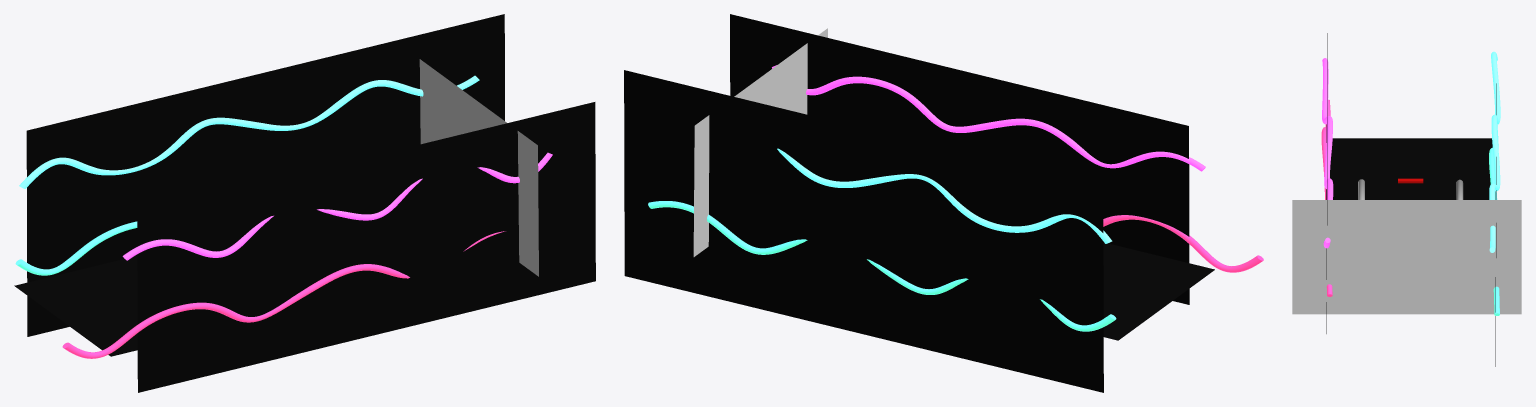
Rendered from pongv2.2.glb.
3 views of the same model, side by side, from view 1: azimuth 30°, elevation 25°; view 2: azimuth 150°, elevation 25°; view 3: azimuth 270°, elevation 25° (orthographic). The views are drawn at different scales.
Parts seen in each view (by area): view 1: Plane.002, Plane, Plane.003, Plane.004, NurbsPath, NurbsPath.003, NurbsPath.001, NurbsPath.002; view 2: Plane, Plane.002, Plane.003, Plane.004, NurbsPath.001, NurbsPath, NurbsPath.002, NurbsPath.003; view 3: Plane.004, Plane.003, NurbsPath, NurbsPath.001, NurbsPath.002, NurbsPath.003, Plane.002.
Boxes of the visible parts, box(x1,y1,x2,y2) form: Plane.002: box(137, 102, 595, 392); Plane: box(26, 14, 504, 336); Plane.003: box(14, 256, 137, 356); Plane.004: box(419, 59, 538, 276); NurbsPath: box(19, 75, 479, 188); NurbsPath.003: box(62, 231, 505, 358); NurbsPath.001: box(122, 152, 552, 260); NurbsPath.002: box(15, 221, 137, 275); Plane: box(624, 70, 1103, 392); Plane.002: box(730, 14, 1189, 304); Plane.003: box(1103, 242, 1214, 340); Plane.004: box(693, 28, 827, 256); NurbsPath.001: box(772, 65, 1205, 171); NurbsPath: box(777, 148, 1112, 243); NurbsPath.002: box(648, 201, 1116, 331); NurbsPath.003: box(1103, 215, 1263, 272); Plane.004: box(1292, 200, 1521, 314); Plane.003: box(1330, 138, 1492, 199); NurbsPath: box(1489, 51, 1500, 252); NurbsPath.001: box(1322, 58, 1333, 248); NurbsPath.002: box(1489, 125, 1499, 315); NurbsPath.003: box(1321, 99, 1332, 296); Plane.002: box(1326, 33, 1327, 333).
Size of the model in its own units: 38.36 by 13.99 by 16.37.
